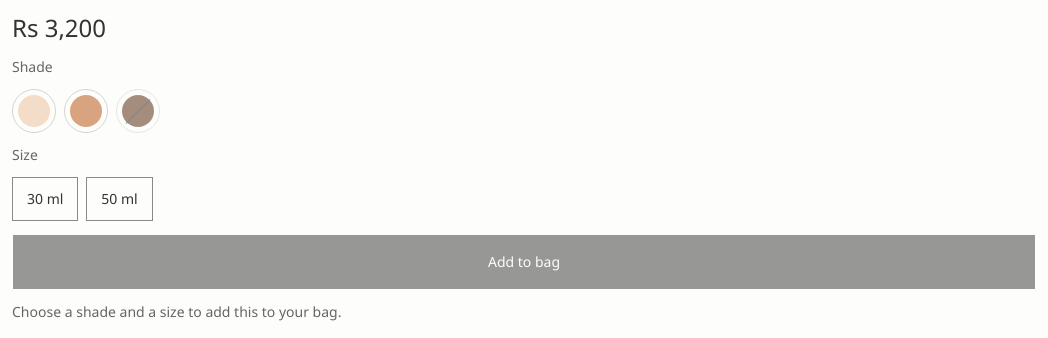
VariantPicker, for a product with shades › resolves a shade and a size to the right variant and adds it
The width and height of the screenshot is (1048, 338).
Step 1. Click the radio button named "Warm Beige" → (86, 111), box [64, 89, 108, 133]
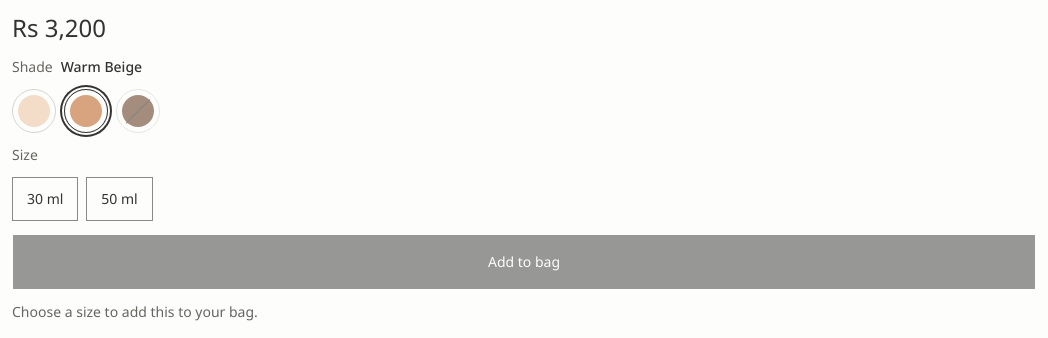
Step 2. Click the radio button labelled "50 ml" → (120, 199), box [86, 177, 153, 221]
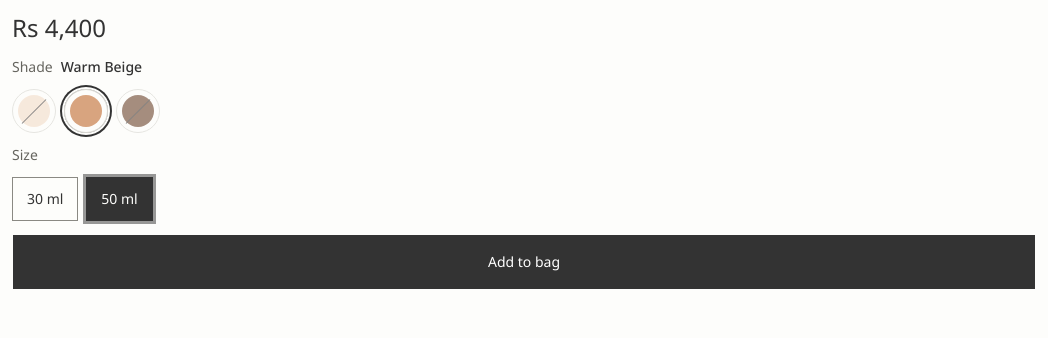
Step 3. Click the button "Add to bag" → (524, 262), box [12, 234, 1036, 290]
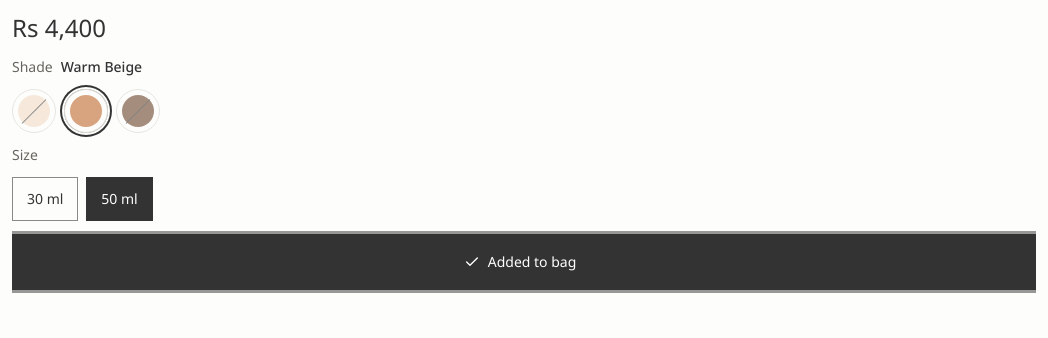
expect the button "Added to bag" is shown: met, box [12, 234, 1036, 290]
